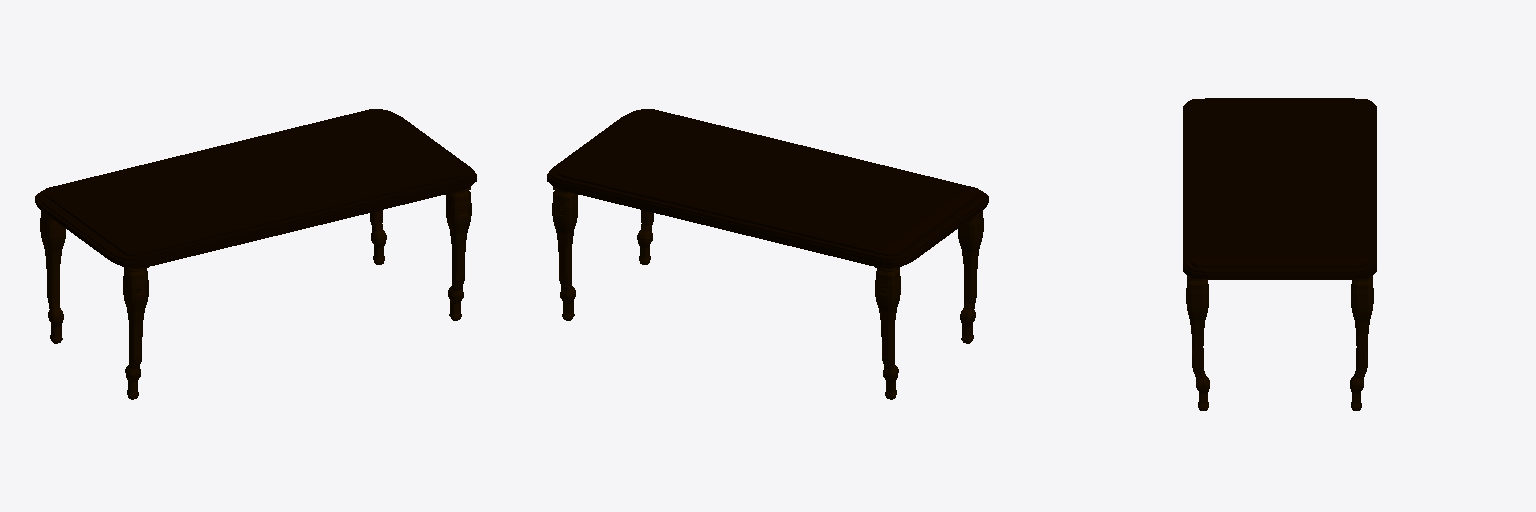
File: tableExport.obj
3 views of the same model, side by side, from view 1: azimuth 30°, elevation 25°; view 2: azimuth 150°, elevation 25°; view 3: azimuth 270°, elevation 25° (orthographic).
Visible parts, largest first — view 1: additiveTable; view 2: additiveTable; view 3: additiveTable.
Part boxes in pixels (x1,y1,x2,y2): additiveTable: (35,109,476,399); additiveTable: (547,109,988,399); additiveTable: (1183,98,1376,410).
Size of the model in its own units: 334 by 131 by 155.